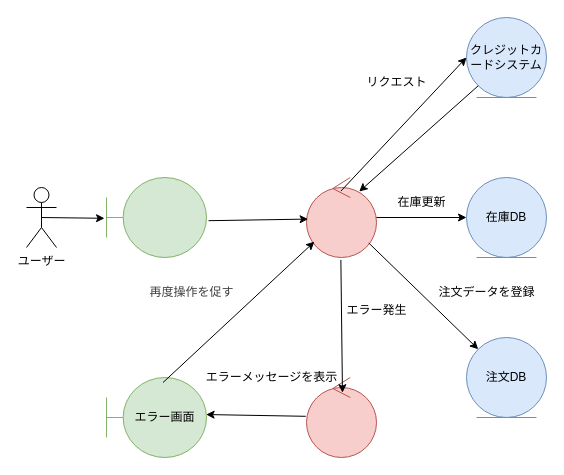
The diagram is 564 pixels wide and 475 high, and some of its shapes have lost their labels. The shapes that lost their labels are listed below. From the top down, each one's centre as x and y in pixels, then its label:
At point (156, 217): "注文画面".
At point (341, 217): "購入処理".
At point (341, 417): "エラー".
